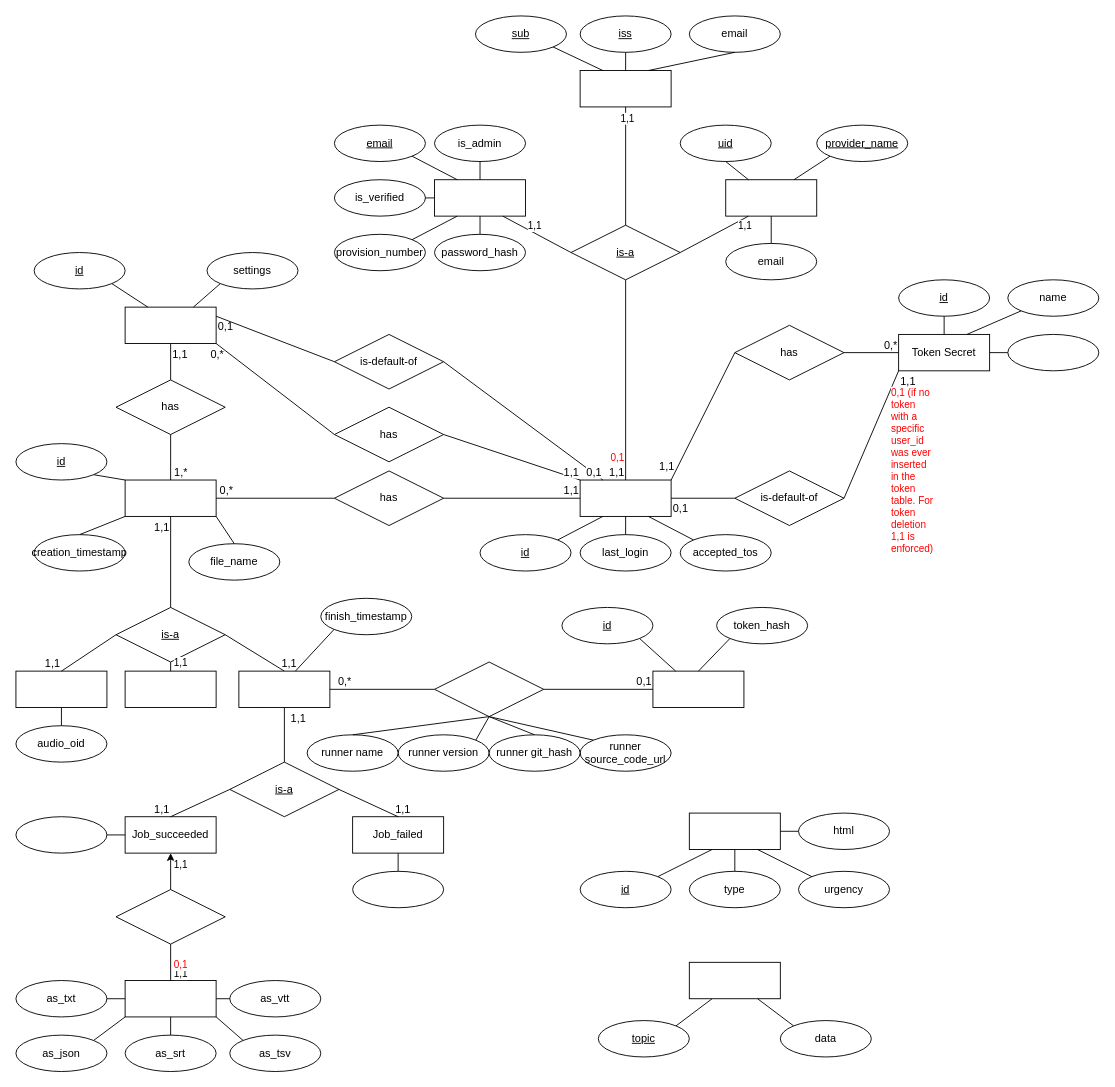
Some shapes in this 1115 by 1087 pixel diagram are drawn without their labels. Each missing label, with the centre of its shape:
belongs to: point 170,916
downloaded: point 61,834
error_msg: point 398,889
finished-by: point 489,689
Job: point 170,497
Job Settings: point 170,325
Job_aborting: point 170,689
Job_finished: point 284,689
Job_running: point 61,689
LDAP Account: point 771,197
Local Account: point 480,197
Metadata: point 734,980
OIDC Account: point 625,88
Runner: point 698,689
secret: point 1053,352
Site Data: point 734,830
Transcript: point 170,998
User: point 625,497
